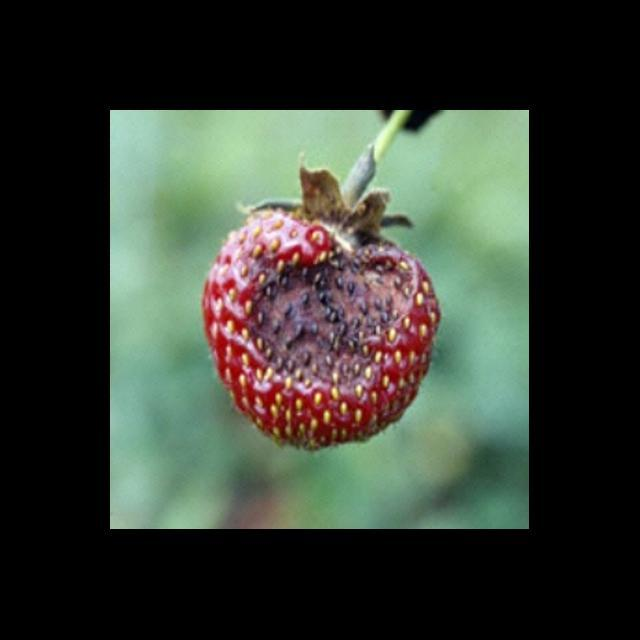Anthracnose Fruit Rot: (221, 239, 429, 402)
